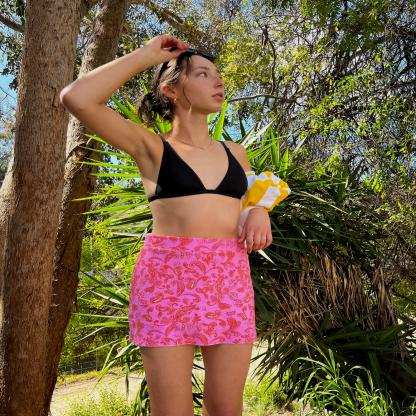jacket: (116, 230, 273, 353), (142, 128, 252, 211)
